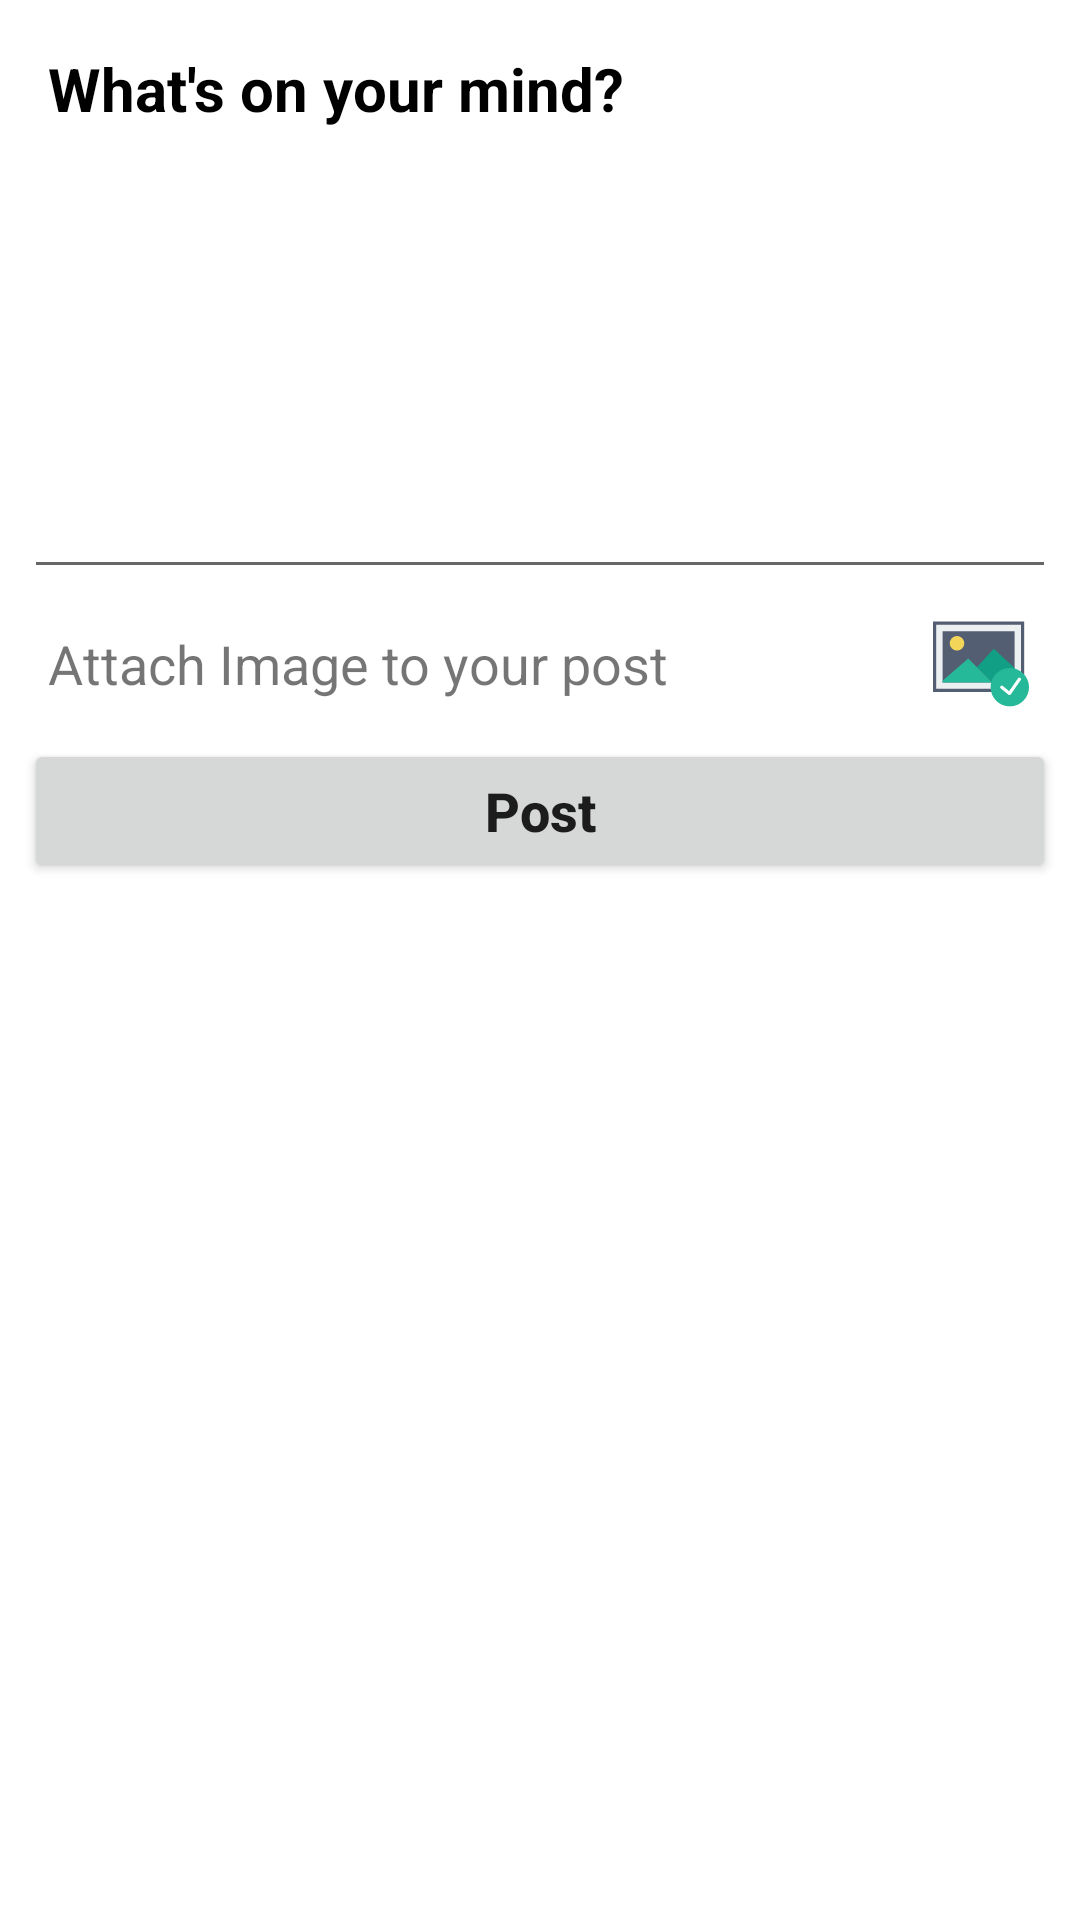

Icon click points for this 1080w x 1920h phone screenshot, format (x,y):
upload: (981,664)
